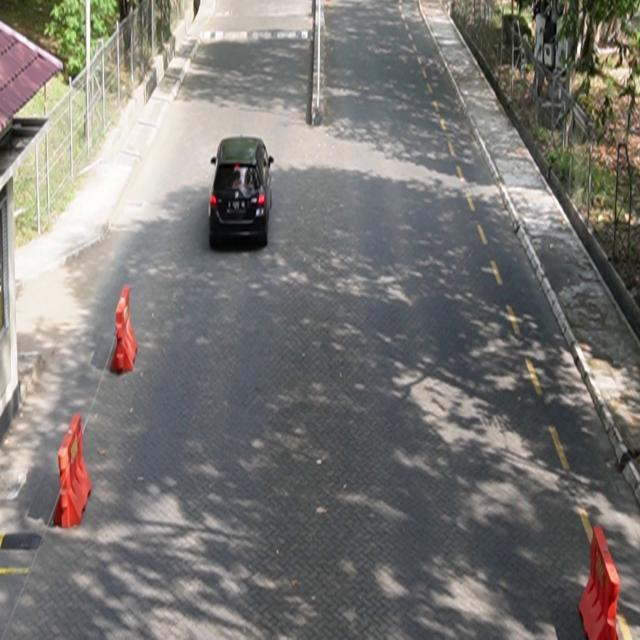car: (209, 136, 275, 250)
